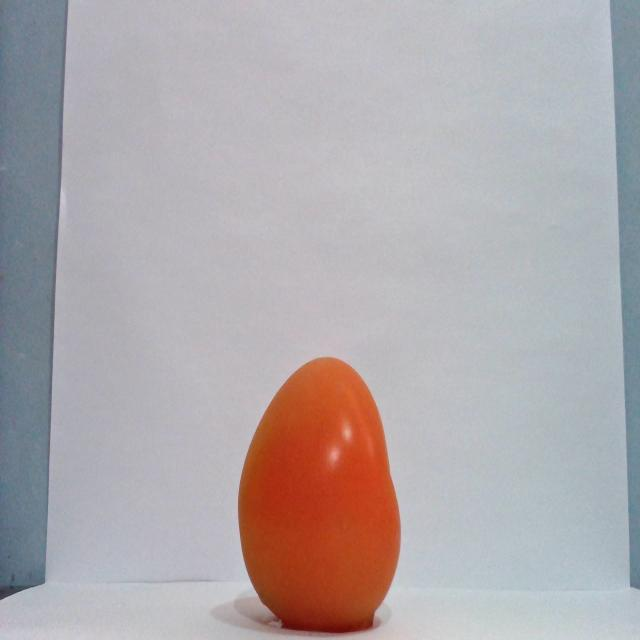Red: (236, 354, 402, 632)
